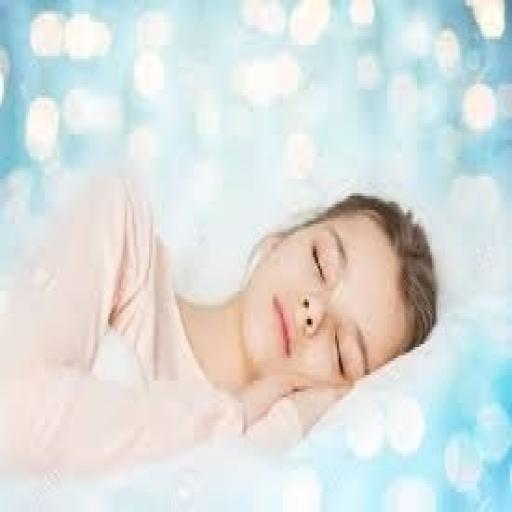sleeping: (10, 165, 442, 465)
